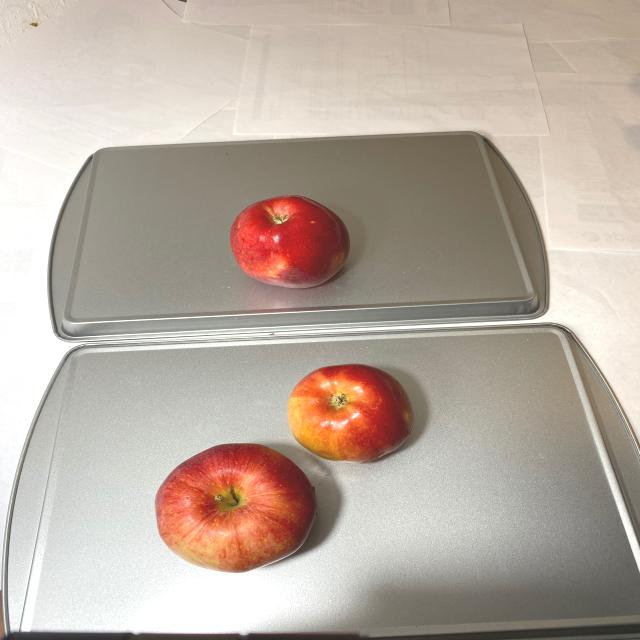apple: (152, 364, 414, 574), (232, 195, 351, 292)
